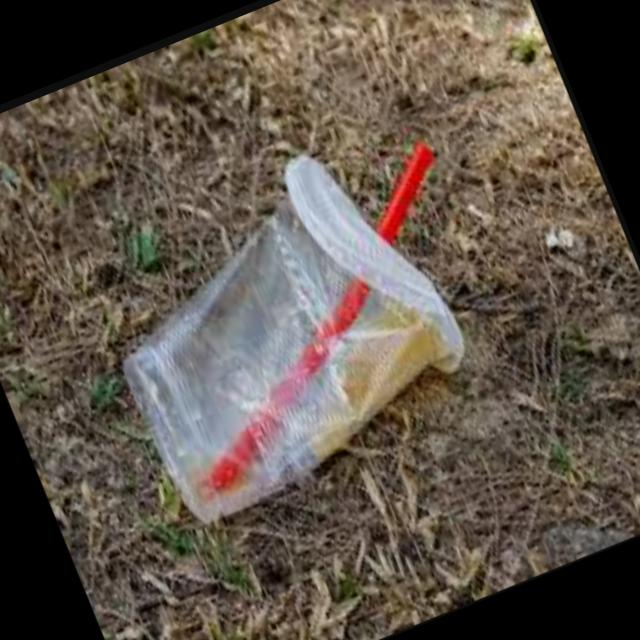GelasPlastik: (70, 106, 530, 535)
